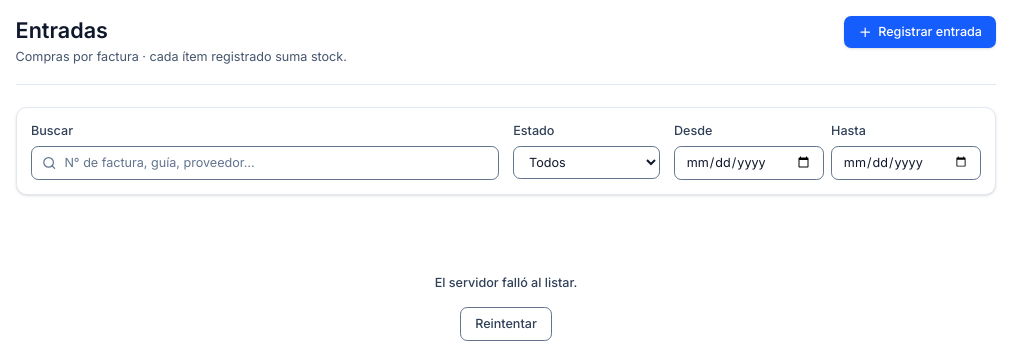
Test: EntriesListPage › muestra el error del backend y permite reintentar
The width and height of the screenshot is (1014, 358).
Expected: the text "El servidor falló al listar." is shown, [435,274,577,292]
Click the button "Reintentar" at point(506, 324), box [460,307,552,341]
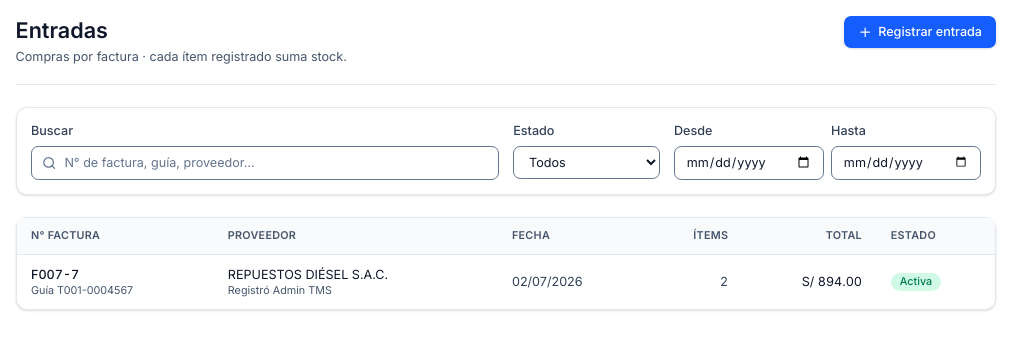
Result: the text "F007-7" is shown at [31,267,79,282]
